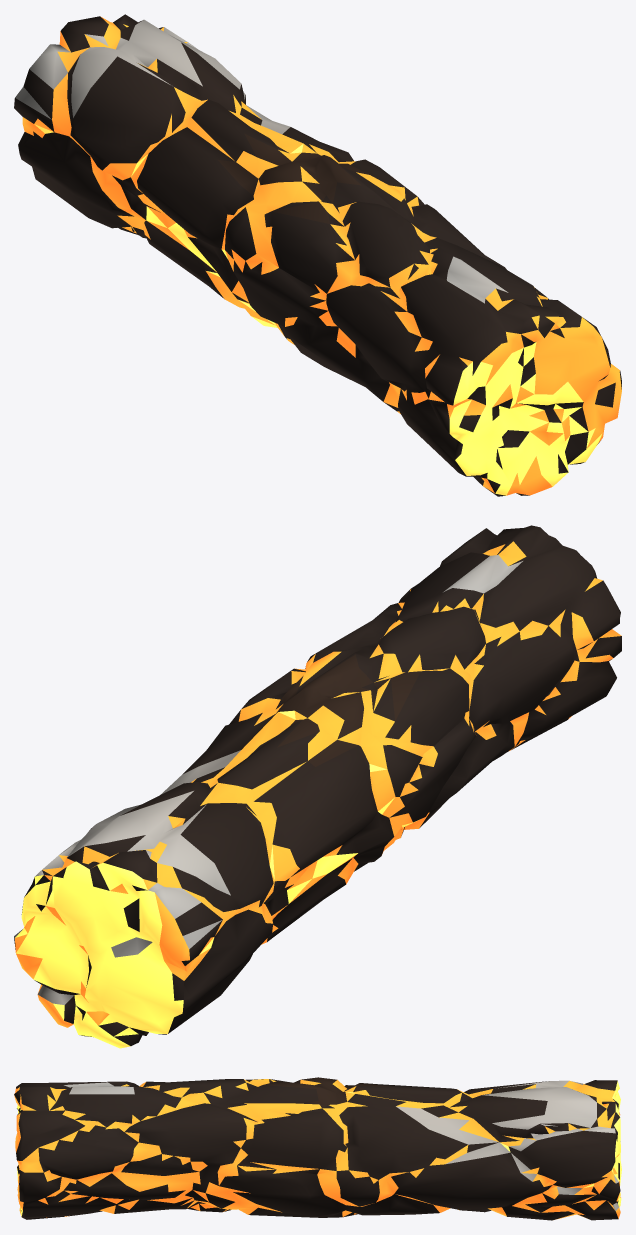
File: ember_log_burning_b_lod1.glb
The picture shows the model from 3 angles, top to bottom: view 1: azimuth 30°, elevation 25°; view 2: azimuth 150°, elevation 25°; view 3: azimuth 270°, elevation 25°; orthographic projection. The views are drawn at different scales.
Parts seen in each view (by area): view 1: ember_log_burning_b.001; view 2: ember_log_burning_b.001; view 3: ember_log_burning_b.001.
Part boxes in pixels (x1,y1,x2,y2): ember_log_burning_b.001: (14,14,621,496); ember_log_burning_b.001: (14,525,621,1048); ember_log_burning_b.001: (14,1077,621,1220).
Bounding box in the file's own units: 9.45 × 9.2 × 38.45.
